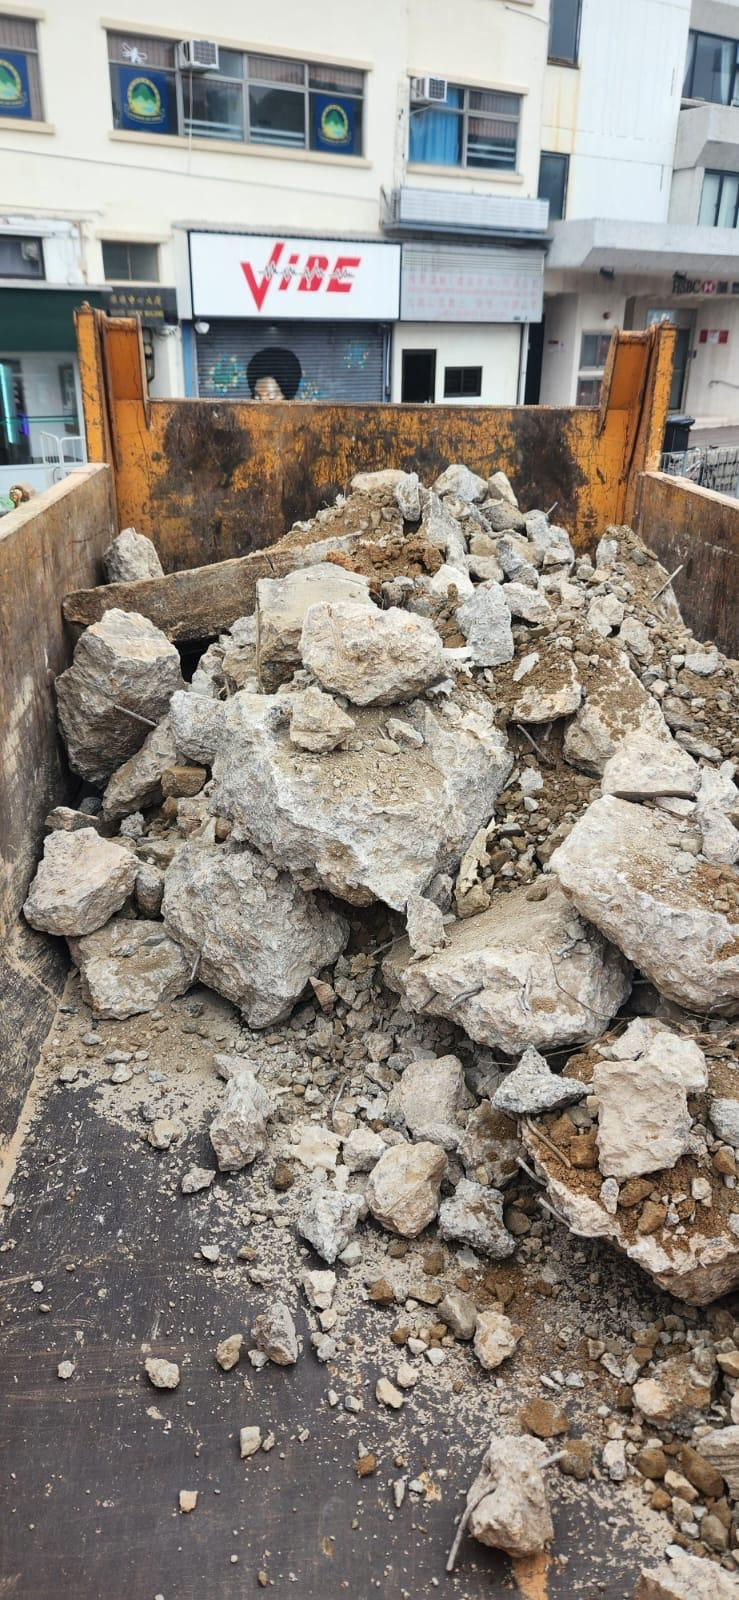dry: (78, 500, 739, 1555)
